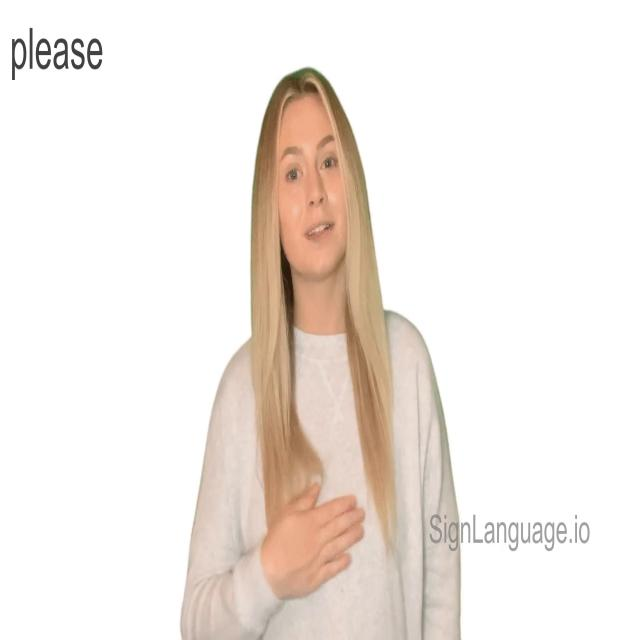please: (248, 480, 376, 603)
